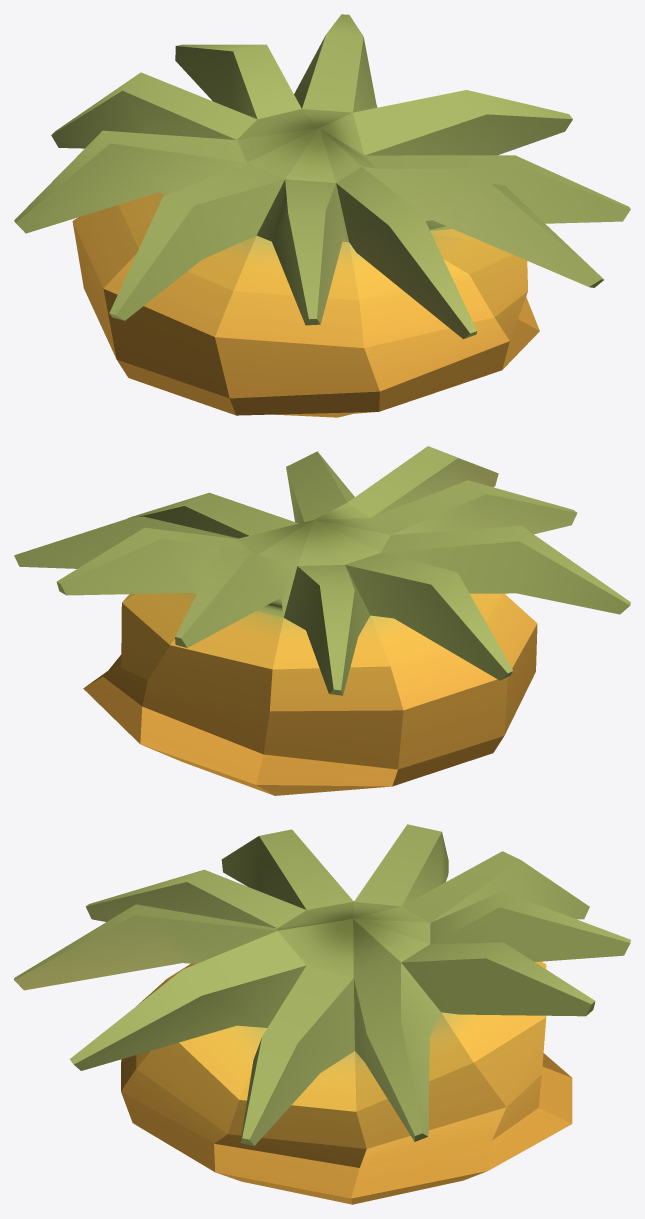
The model's file is pineapple_rotted1.fbx.
3 renders of one model, top to bottom at view 1: azimuth 30°, elevation 25°; view 2: azimuth 150°, elevation 25°; view 3: azimuth 270°, elevation 25°, orthographic. The views are drawn at different scales.
Visible parts, largest first — view 1: rotted1; view 2: rotted1; view 3: rotted1.
Part boxes in pixels (box(x1,y1,x2,y2)): rotted1: box(14, 14, 630, 417); rotted1: box(14, 446, 630, 795); rotted1: box(14, 824, 630, 1204).
Bounding box in the file's own units: 20.68 × 9.67 × 20.29.
